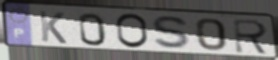0: (194, 17, 230, 53), (77, 12, 109, 47)
K: (37, 9, 70, 45)
O: (115, 12, 151, 50)
R: (231, 18, 271, 56)
S: (150, 15, 195, 52)
